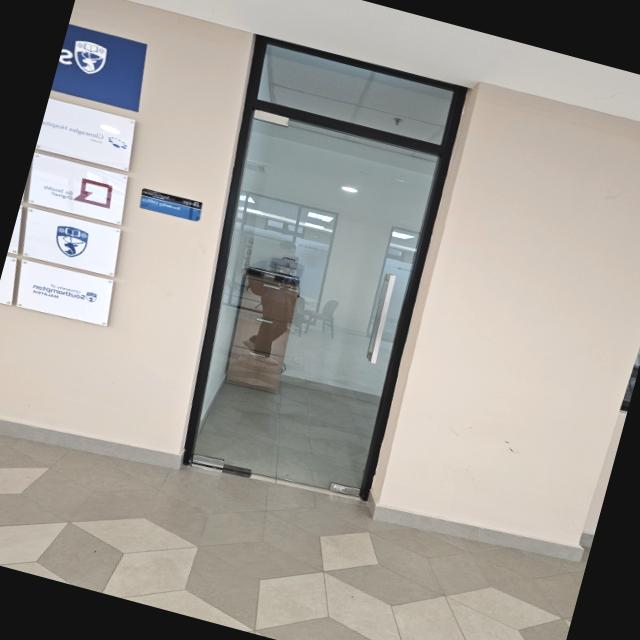door: (165, 95, 454, 517)
footpath: (0, 420, 577, 640)
